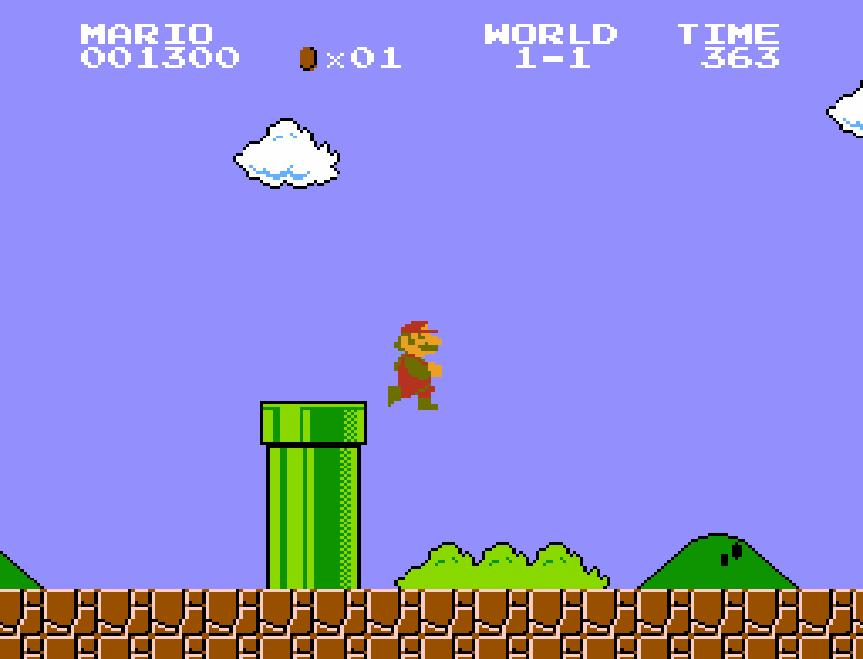big_mario: (386, 313, 444, 411)
